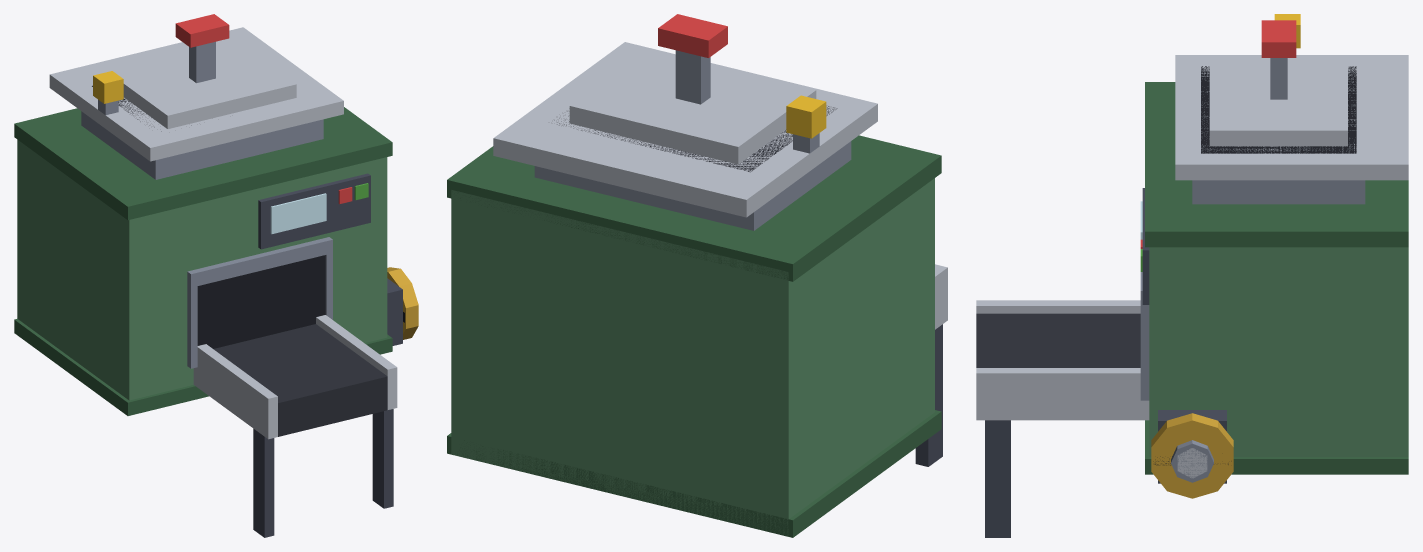
Rendered from packer.glb.
3 views of the same model, side by side, from view 1: azimuth 30°, elevation 25°; view 2: azimuth 150°, elevation 25°; view 3: azimuth 270°, elevation 25° (orthographic). The views are drawn at different scales.
Visible parts, largest first — view 1: packer, slide-up, spin-x; view 2: packer, slide-up; view 3: packer, slide-up, spin-x.
Part boxes in pixels (bbox=[...]): packer: bbox=[14, 27, 402, 537]; slide-up: bbox=[113, 14, 296, 128]; spin-x: bbox=[387, 267, 418, 339]; packer: bbox=[447, 42, 947, 537]; slide-up: bbox=[569, 14, 816, 164]; packer: bbox=[976, 14, 1408, 537]; slide-up: bbox=[1209, 20, 1347, 146]; spin-x: bbox=[1151, 413, 1233, 498].
Size of the model in its own units: 0.93 by 1.2 by 1.
3 materials, 3 textured.
